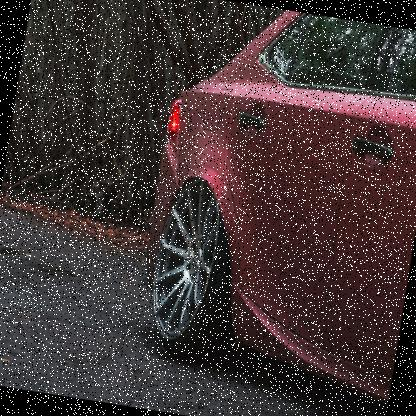Car: (126, 0, 415, 410)
